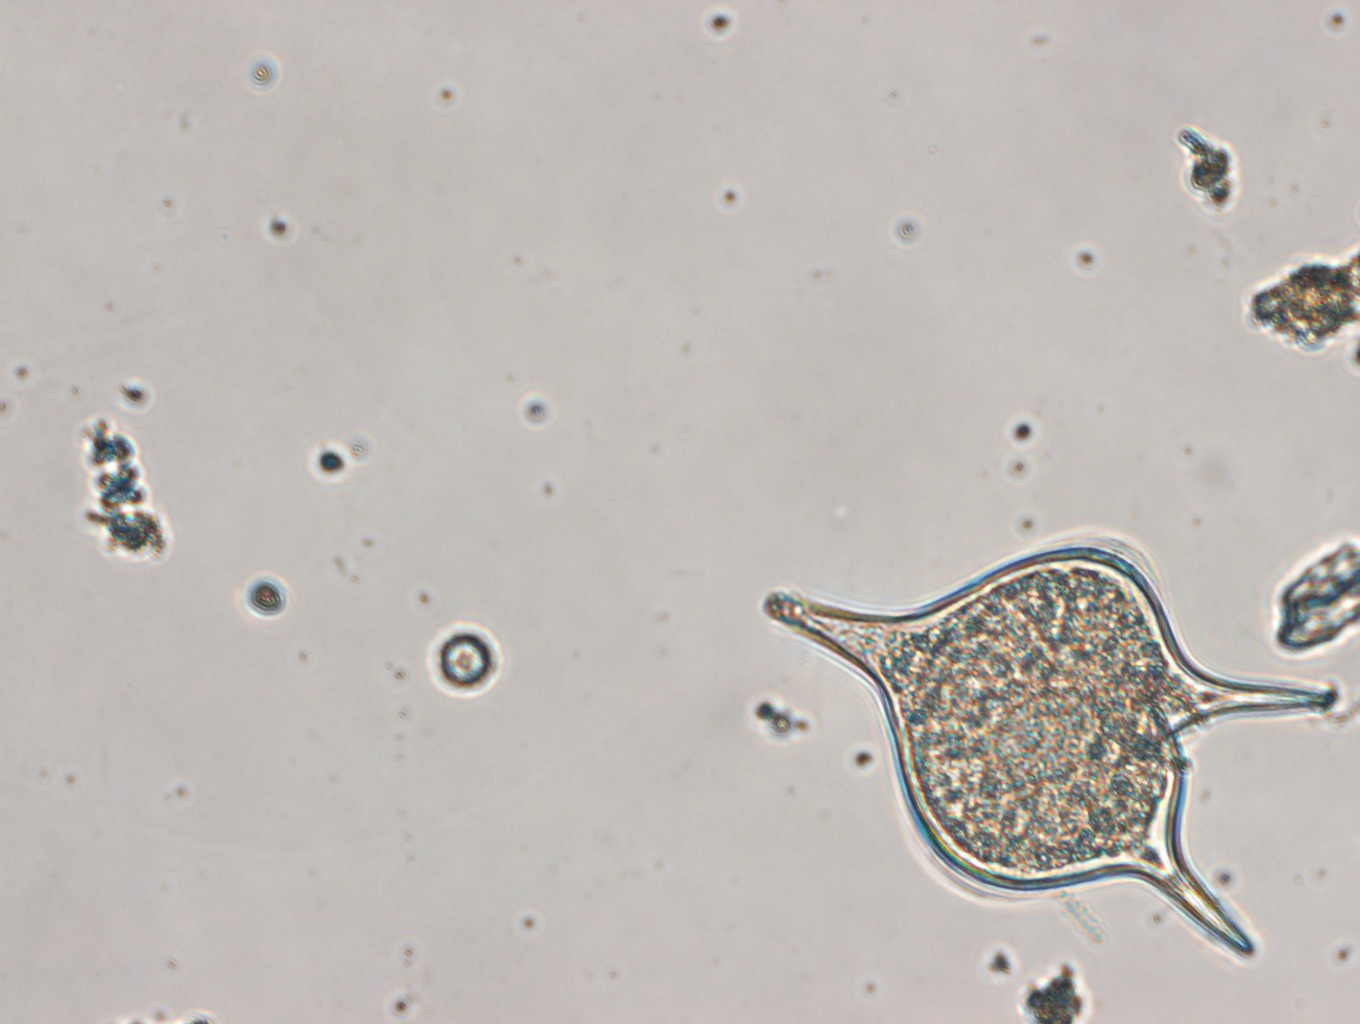protoperidinium: (762, 542, 1341, 956)
